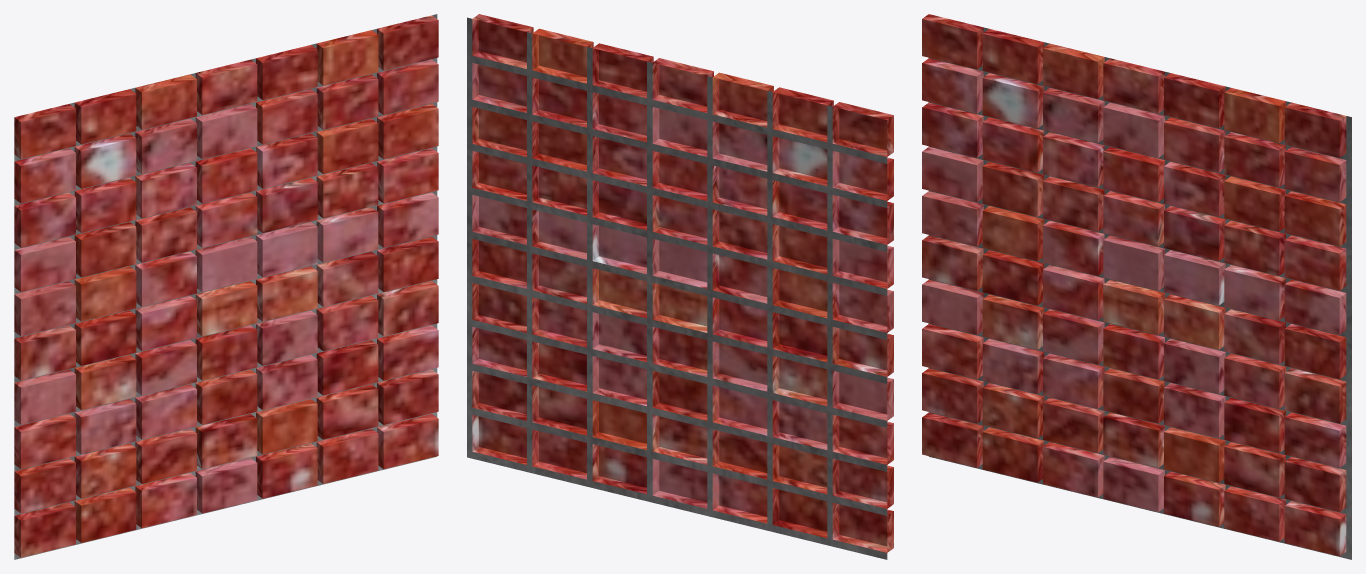
File: Pared_019.fbx
3 views of the same model, side by side, from view 1: azimuth 30°, elevation 25°; view 2: azimuth 150°, elevation 25°; view 3: azimuth 330°, elevation 25° (orthographic).
Visible parts, largest first — view 1: Plane; view 2: Plane; view 3: Plane.
Boxes of the visible parts, box(x1,y1,x2,y2) form: Plane: box(14, 14, 438, 559); Plane: box(467, 14, 893, 559); Plane: box(922, 14, 1351, 559).
Size of the model in its own units: 600 by 600 by 16.4.
